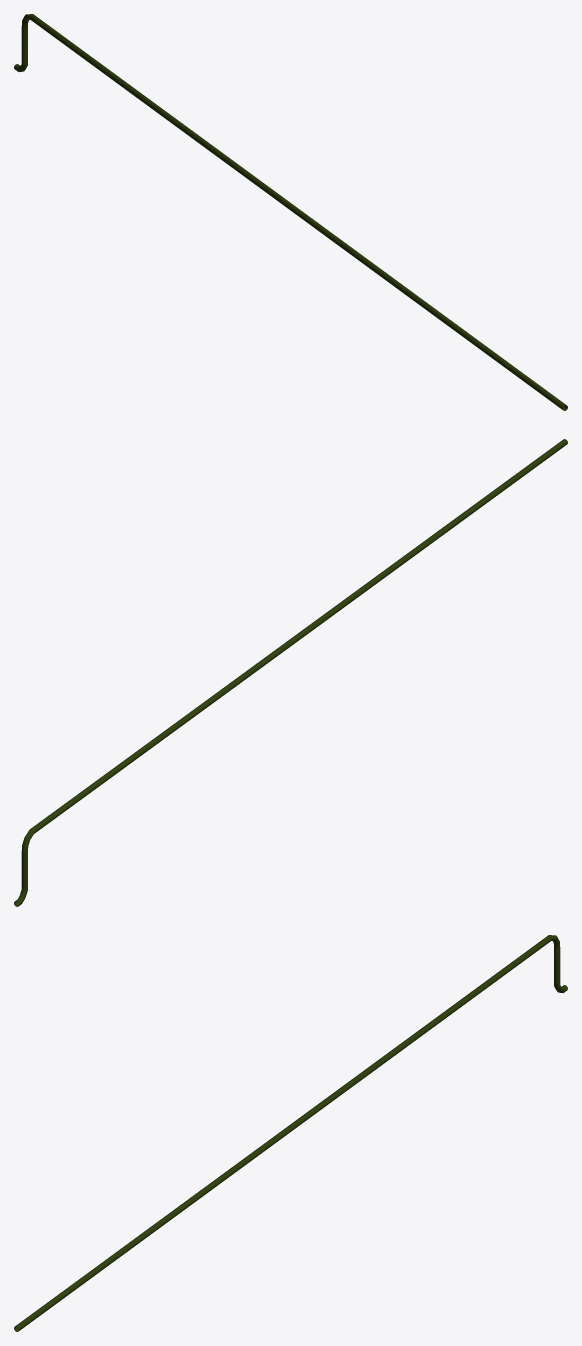
Rendered from SaturratedBuffer.fbx.
3 renders of one model, top to bottom at view 1: azimuth 30°, elevation 25°; view 2: azimuth 150°, elevation 25°; view 3: azimuth 330°, elevation 25°, orthographic.
Parts seen in each view (by area): view 1: SaturatedBuffer; view 2: SaturatedBuffer; view 3: SaturatedBuffer.
Part boxes in pixels (left/top/right/bottom): SaturatedBuffer: left=14, top=14, right=567, bottom=410; SaturatedBuffer: left=14, top=439, right=567, bottom=906; SaturatedBuffer: left=14, top=935, right=567, bottom=1331.
Size of the model in its own units: 13.08 by 153 by 2270.
